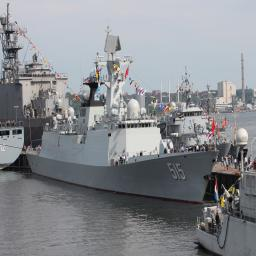Fragata: (24, 27, 221, 208)
